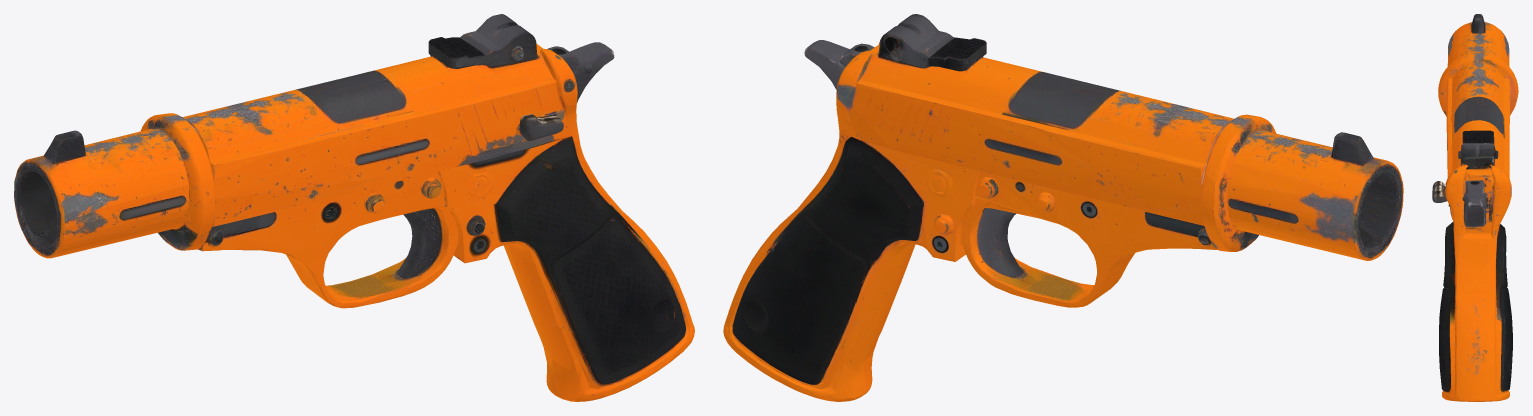
Rendered from flare_pistol.glb.
The picture shows the model from 3 angles, left to right: view 1: azimuth 30°, elevation 25°; view 2: azimuth 150°, elevation 25°; view 3: azimuth 270°, elevation 25°; orthographic projection. The views are drawn at different scales.
Size of the model in its own units: 1.9 by 1.07 by 0.3602.
1 material, 1 textured.
